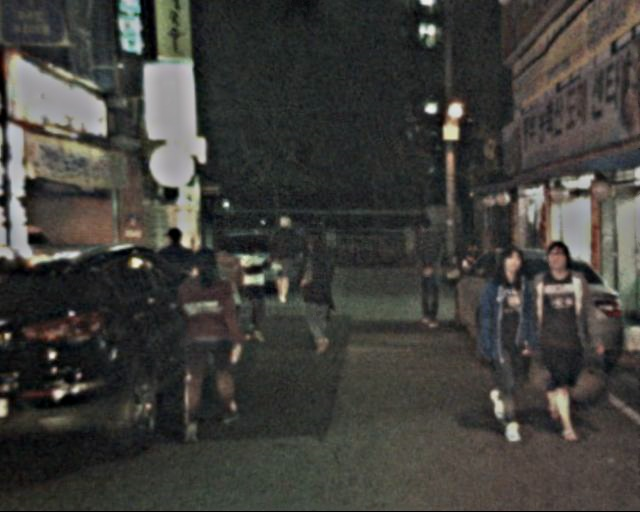person: (527, 231, 601, 437), (167, 249, 245, 432), (473, 231, 538, 440), (143, 228, 203, 374), (197, 234, 252, 356), (294, 233, 344, 354), (408, 212, 452, 333), (233, 238, 276, 342), (263, 206, 304, 307)
